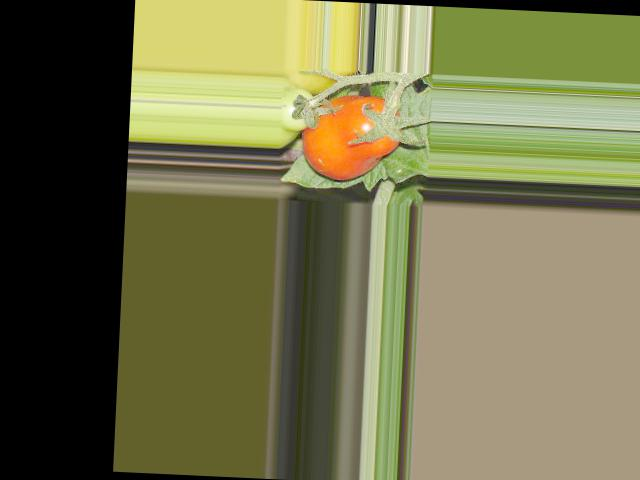tomato: (301, 93, 403, 182)
